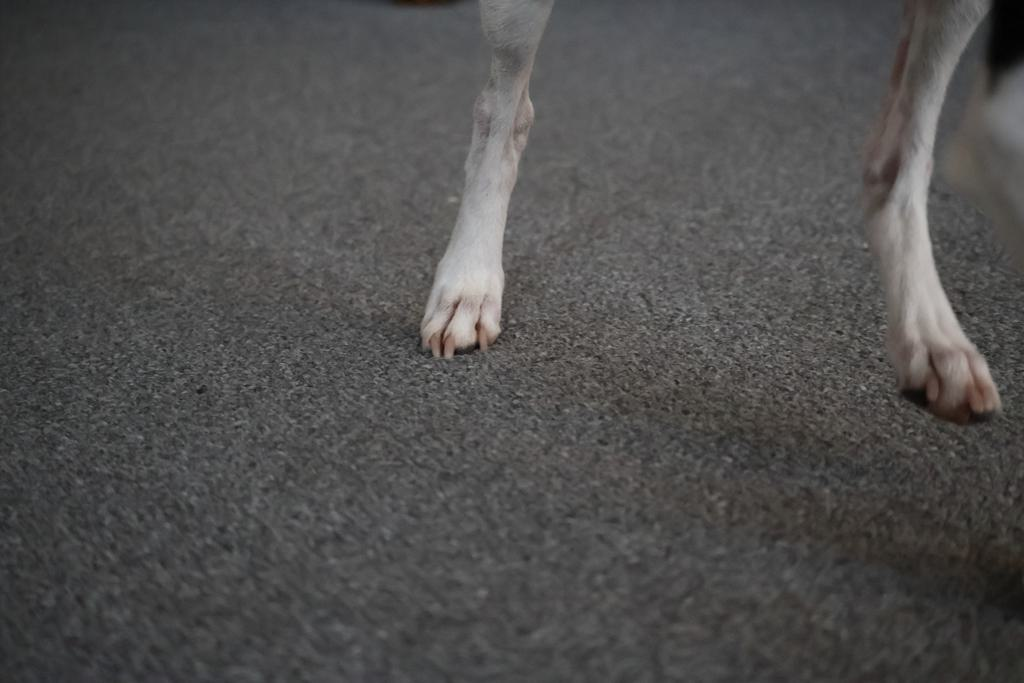Dog: (402, 0, 1024, 434)
